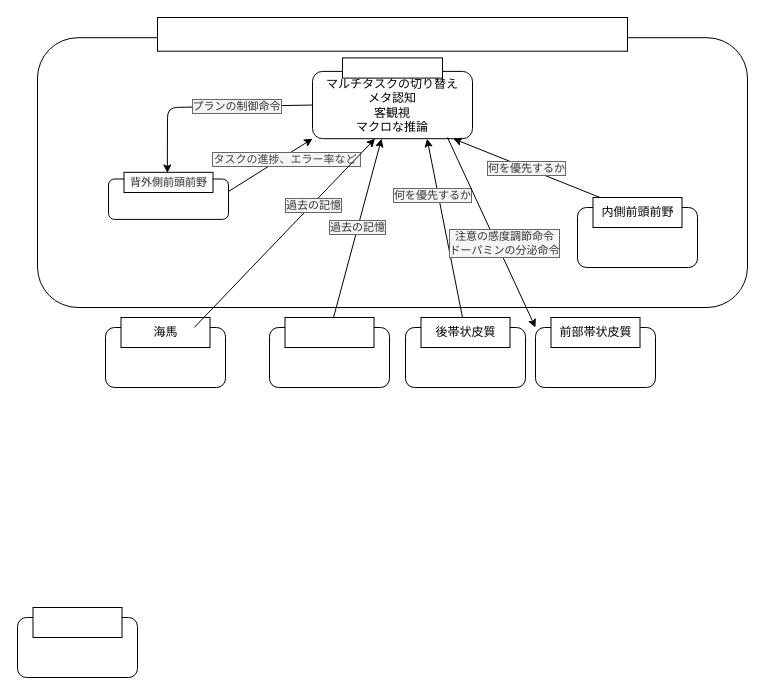
This 765x695 diagram has some shape labels left out. Here are the shapes that lost their labels. From the top down, the centre of each, then its label:
At (392,33): "前頭前野".
At (392,67): "前頭極".
At (329,332): "内側側頭葉".
